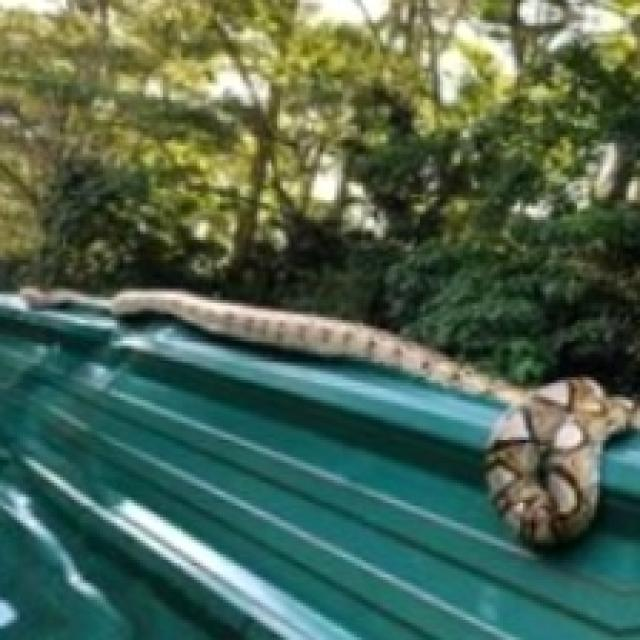reticulated python: (20, 290, 640, 547)
